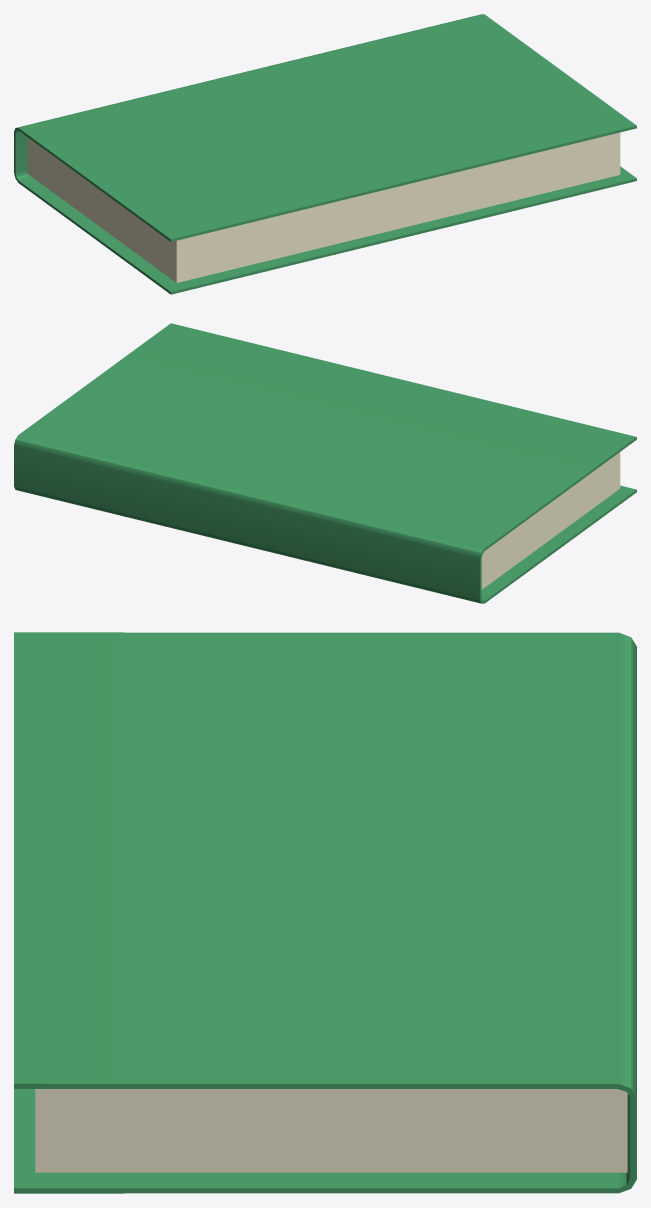
File: Book.fbx
3 renders of one model, top to bottom at view 1: azimuth 30°, elevation 25°; view 2: azimuth 150°, elevation 25°; view 3: azimuth 270°, elevation 25°, orthographic. The views are drawn at different scales.
Visible parts, largest first — view 1: pCube2, pCube1; view 2: pCube2, pCube1; view 3: pCube2, pCube1.
Boxes of the visible parts, x1,y1,x2,y2 form: pCube2: [14, 14, 636, 294]; pCube1: [27, 132, 620, 282]; pCube2: [14, 323, 636, 603]; pCube1: [481, 452, 620, 589]; pCube2: [14, 632, 636, 1193]; pCube1: [35, 1089, 627, 1172].
Size of the model in its own units: 3.74 by 0.4234 by 2.18.
